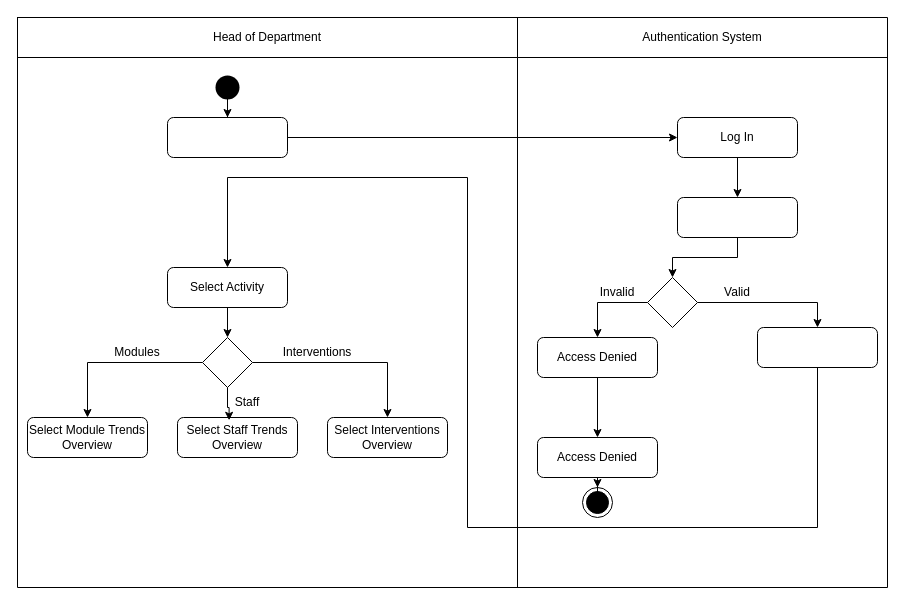
Some shapes in this 905 by 605 pixel diagram are drawn without their labels. The shapes that lost their labels are listed below. From the top down, each one's centre as x and y in pixels, then its label:
At point (227, 137): "Enter credentials".
At point (737, 217): "Verify Credentials".
At point (817, 347): "Grant Access".
